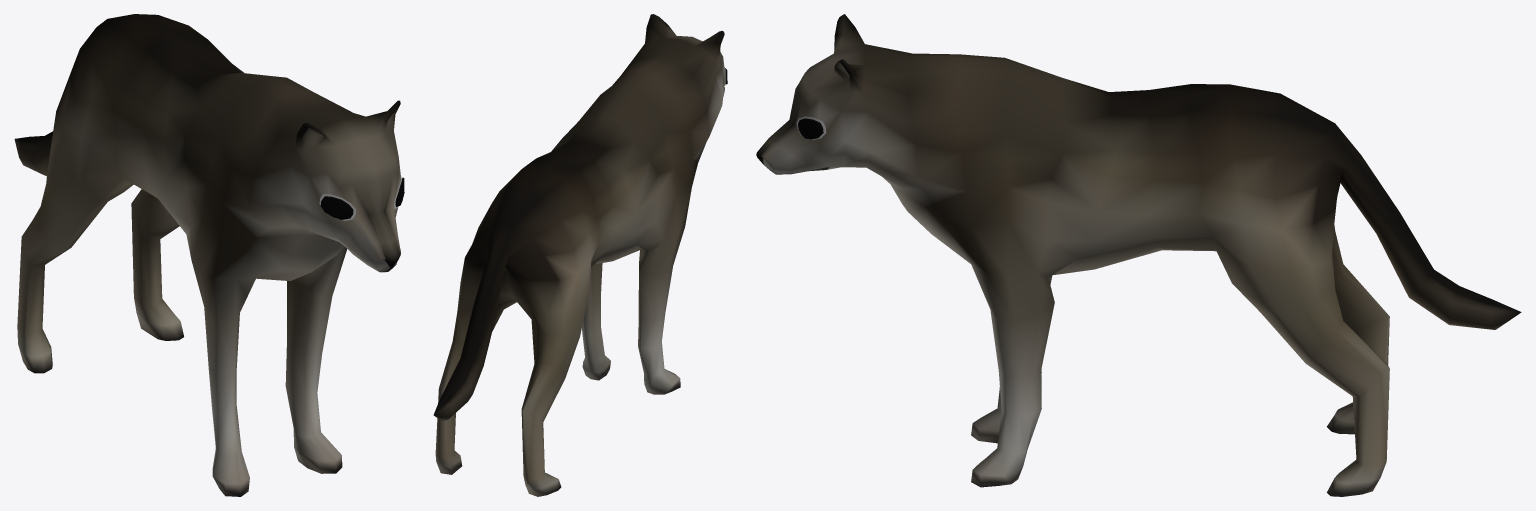
File: GrayWolf.gltf
3 renders of one model, left to right at view 1: azimuth 30°, elevation 25°; view 2: azimuth 150°, elevation 25°; view 3: azimuth 270°, elevation 25°, orthographic. The views are drawn at different scales.
Parts seen in each view (by area): view 1: base.027; view 2: base.027; view 3: base.027.
Part boxes in pixels (x1,y1,x2,y2): base.027: (14,14,404,496); base.027: (433,14,727,496); base.027: (756,14,1521,496).
Bounding box in the file's own units: 0.3556 × 0.9395 × 1.54.
